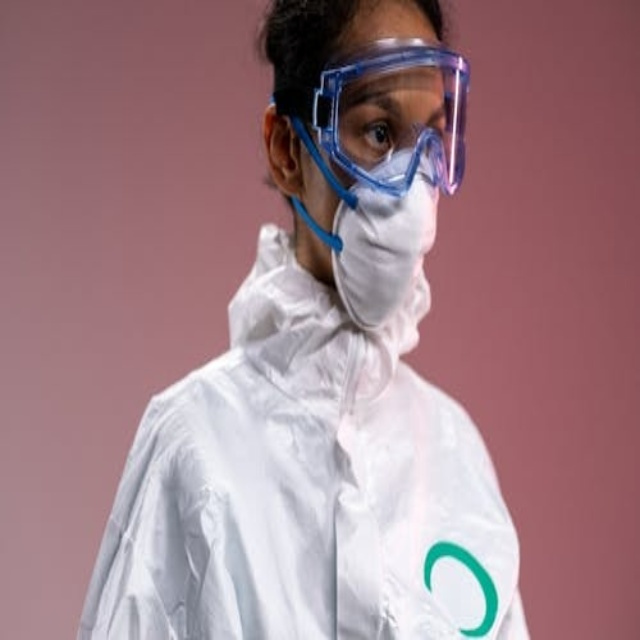Gafas: (278, 42, 470, 202)
Mascara: (325, 148, 441, 335)
